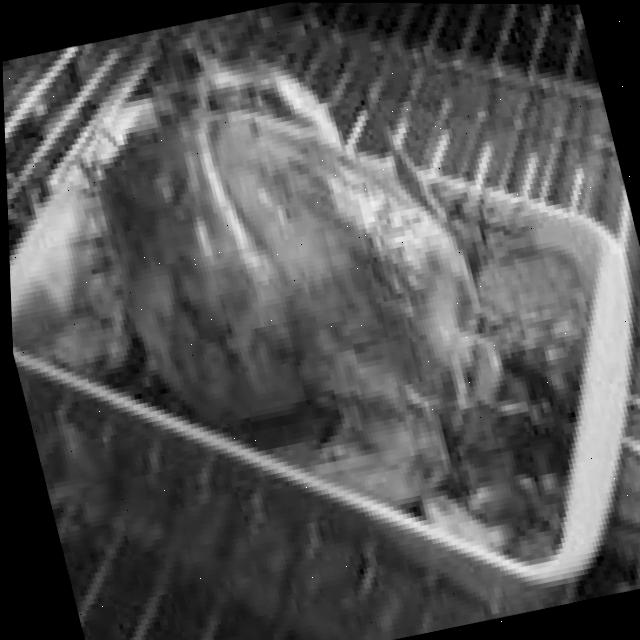鸡肉料理 含炸鸡: (0, 0, 586, 528)
